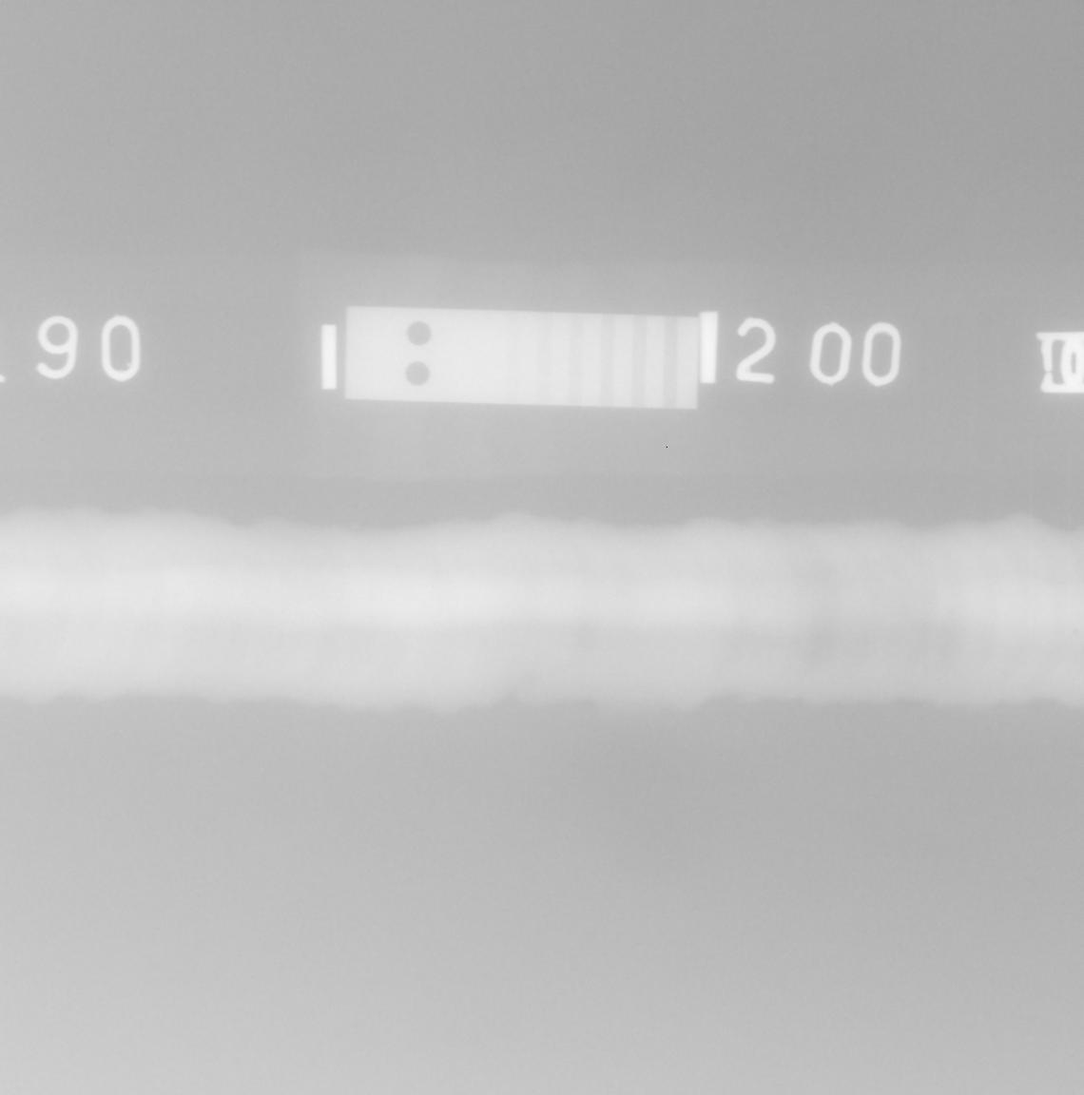Pore/Porosity: (1072, 628, 1078, 635)
Reference Standard 2: (344, 305, 700, 410)
